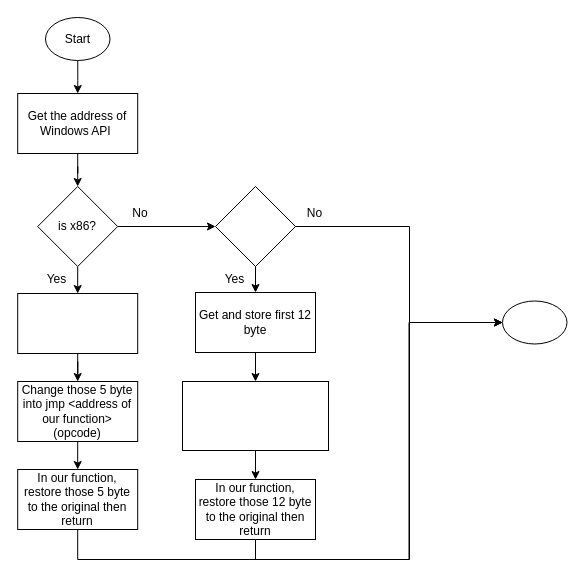
The diagram is 585 pixels wide and 585 high, and some of its shapes have lost their labels. Here are the shapes that lost their labels. From the top down, the centre of each, then its label:
point (255, 226): is x64?
point (77, 323): Get and store first 5 byte
point (534, 322): End
point (255, 415): Change those 12 byte into mov rax, <address of our function> jmp rax
